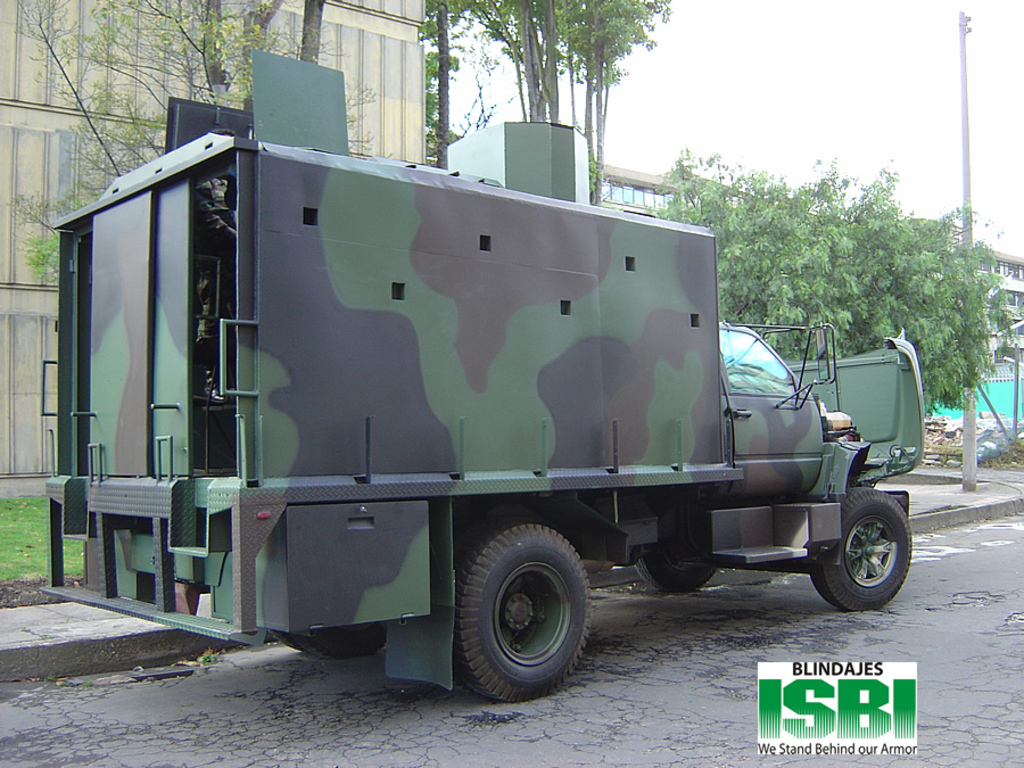truck: (32, 25, 945, 712)
